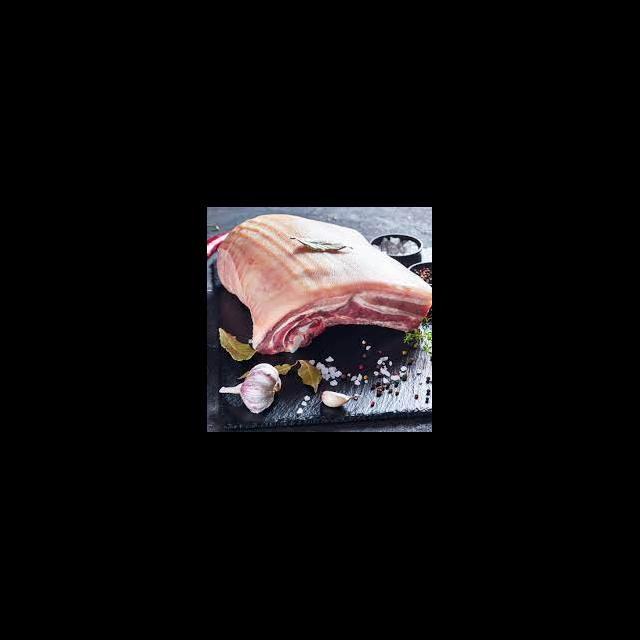pork: (219, 213, 431, 348)
